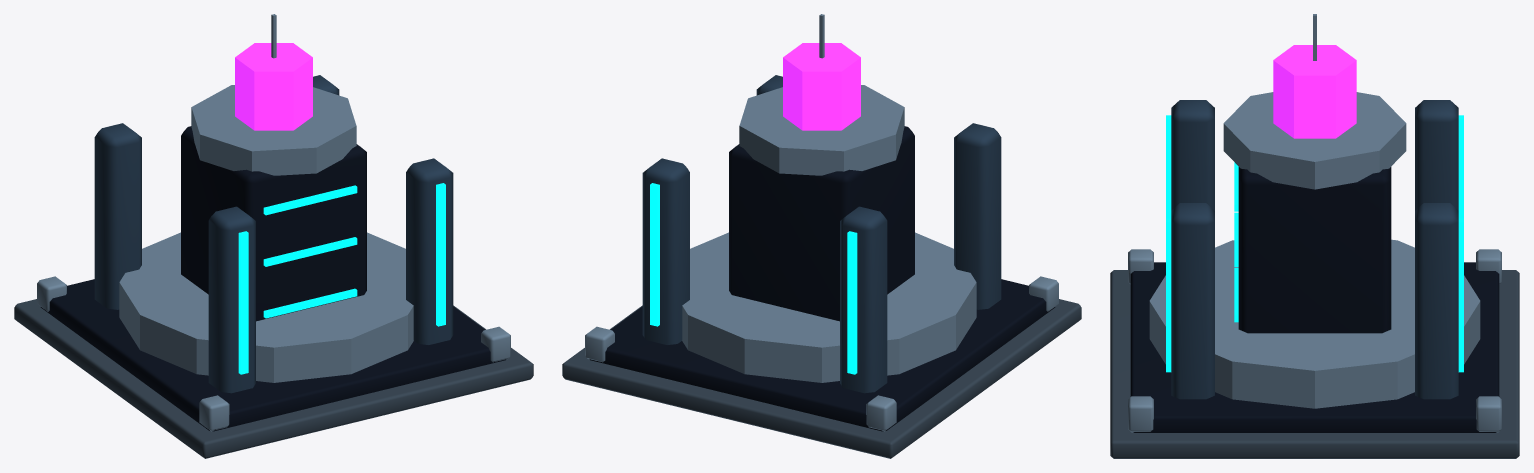
Rendered from core.glb.
3 renders of one model, left to right at view 1: azimuth 30°, elevation 25°; view 2: azimuth 150°, elevation 25°; view 3: azimuth 270°, elevation 25°, orthographic. The views are drawn at different scales.
Visible parts, largest first — view 1: Octagonal pedestal, Archive monolith, Undercarriage, Foundation, Crown, Armored buttress, Armored buttress.001, Armored buttress.003, Signal crystal, Signal strip.001, Signal strip.003, Corner lock.001 (+5 smaller); view 2: Archive monolith, Octagonal pedestal, Undercarriage, Foundation, Crown, Armored buttress.001, Armored buttress, Armored buttress.002, Signal crystal, Signal strip, Signal strip.002, Corner lock (+2 smaller); view 3: Archive monolith, Octagonal pedestal, Undercarriage, Foundation, Crown, Armored buttress.002, Armored buttress.003, Signal crystal, Armored buttress, Armored buttress.001, Signal strip.002, Signal strip.003 (+6 smaller).
Part boxes in pixels (x1,y1,x2,y2): Octagonal pedestal: (119, 232, 413, 382); Archive monolith: (181, 126, 366, 321); Undercarriage: (40, 279, 506, 431); Foundation: (14, 299, 533, 458); Crown: (191, 85, 356, 175); Armored buttress: (94, 123, 141, 309); Armored buttress.001: (208, 206, 255, 393); Armored buttress.003: (406, 158, 453, 344); Signal crystal: (235, 43, 312, 130); Signal strip.001: (238, 231, 248, 374); Signal strip.003: (436, 183, 445, 326); Corner lock.001: (199, 395, 229, 431); Archive monolith: (729, 126, 914, 321); Octagonal pedestal: (682, 232, 976, 382); Undercarriage: (589, 279, 1055, 431); Foundation: (562, 299, 1081, 458); Crown: (739, 85, 904, 175); Armored buttress.001: (954, 123, 1001, 309); Armored buttress: (840, 206, 887, 393); Armored buttress.002: (642, 158, 689, 344); Signal crystal: (783, 43, 860, 130); Signal strip: (847, 231, 857, 374); Signal strip.002: (650, 183, 659, 326); Corner lock: (866, 395, 896, 431); Archive monolith: (1238, 167, 1391, 333); Octagonal pedestal: (1149, 239, 1480, 408); Undercarriage: (1130, 262, 1499, 432); Foundation: (1110, 270, 1519, 458); Crown: (1223, 92, 1406, 189); Armored buttress.002: (1415, 203, 1458, 399); Armored buttress.003: (1171, 203, 1214, 399); Signal crystal: (1273, 45, 1356, 138); Armored buttress: (1415, 100, 1458, 210); Armored buttress.001: (1171, 100, 1214, 210); Signal strip.002: (1458, 218, 1463, 372); Signal strip.003: (1166, 218, 1171, 372).
Size of the model in its own units: 4.7 by 4.55 by 4.7.
